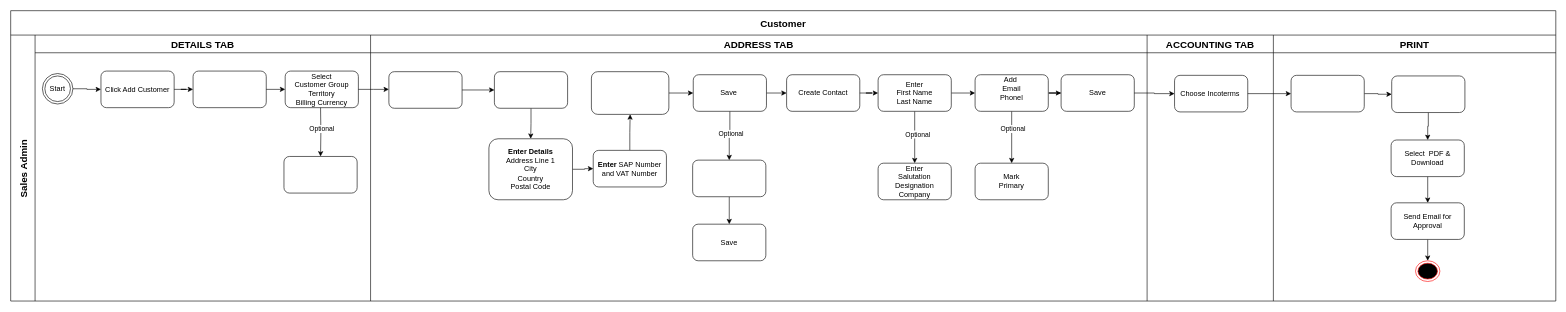
This 1566x312 diagram has some shape labels left out. Each missing label, with the box of its shape:
Create Address: (388, 71, 462, 108)
Enter Customer Name: (192, 70, 266, 108)
Mark Preference Billing / Shipping: (591, 71, 669, 114)
Print View: (1391, 75, 1465, 113)
Save the Customer: (1290, 75, 1364, 112)
Select Address Type: (494, 71, 568, 108)
Select Customer Status Customer Type Account Manager: (283, 156, 357, 193)
Select Primary Address: (692, 160, 766, 197)
